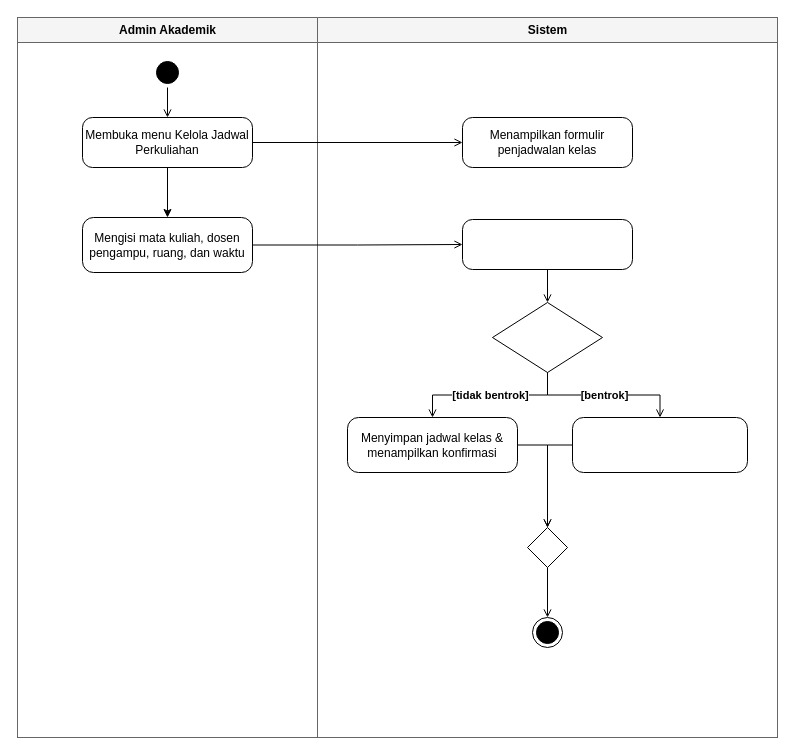
Some shapes in this 795 by 755 pixel diagram are drawn without their labels. Here are the shapes that lost their labels. From the top down, the centre of each, then its label:
(x=547, y=244): Memeriksa bentrok ruang dan jadwal dosen
(x=547, y=337): Jadwal tidak bentrok?
(x=660, y=444): Menolak penyimpanan & menampilkan pesan jadwal bentrok
